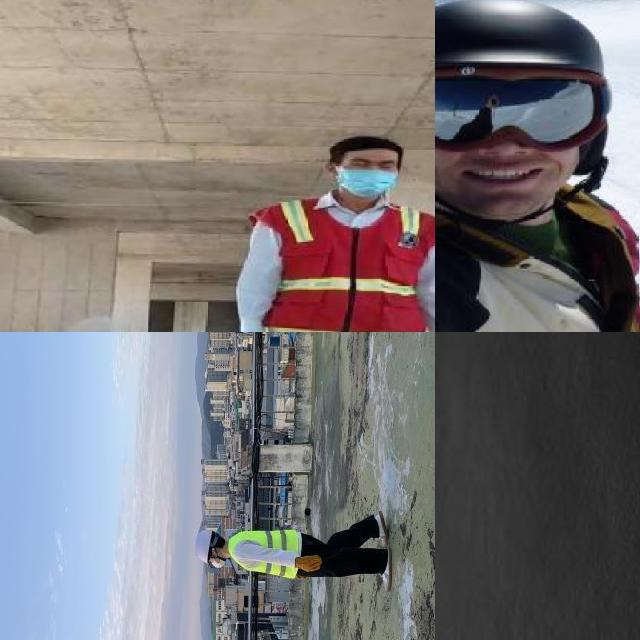boots: (376, 549, 394, 595), (371, 510, 390, 548)
face_mask: (338, 154, 398, 196)
face_nomask: (435, 69, 589, 200)
glasses: (435, 66, 621, 155)
head_helmet: (193, 528, 215, 565)
head_nohelmet: (435, 0, 611, 101), (327, 130, 412, 164)
person: (435, 0, 640, 332), (217, 124, 435, 332), (184, 502, 400, 600)
vest: (249, 196, 435, 332), (227, 528, 302, 583)
